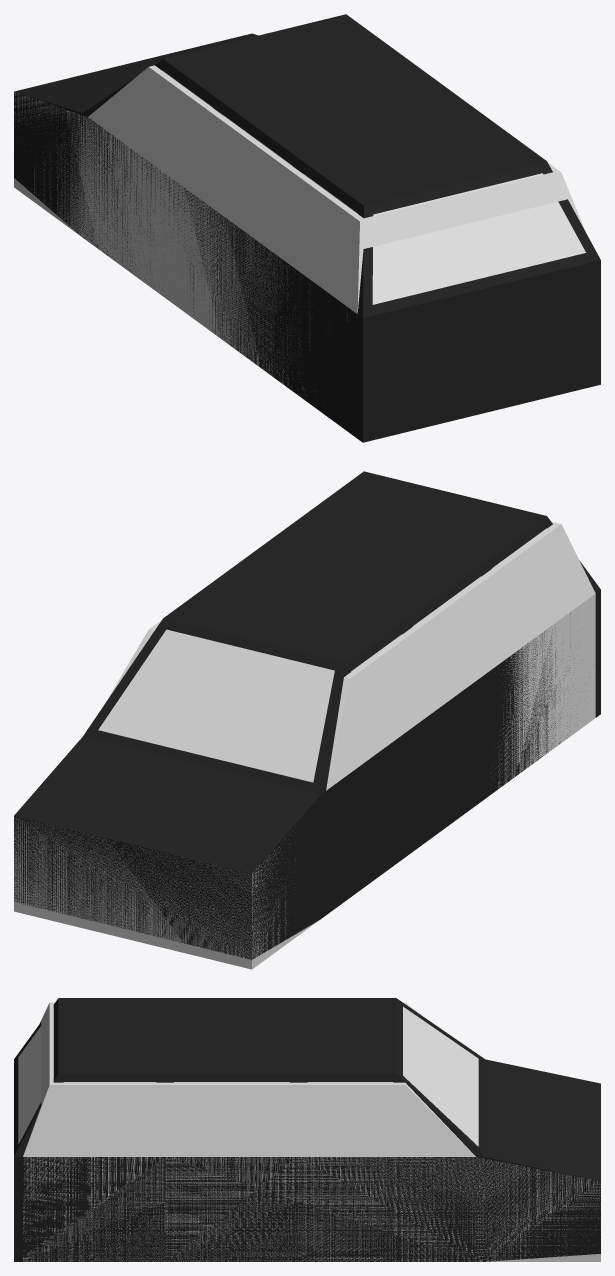
Rendered from minivan.glb.
3 renders of one model, top to bottom at view 1: azimuth 30°, elevation 25°; view 2: azimuth 150°, elevation 25°; view 3: azimuth 270°, elevation 25°, orthographic. The views are drawn at different scales.
Visible parts, largest first — view 1: vehicles/minivan, COL_hull, window.06; view 2: vehicles/minivan, COL_hull, window.00; view 3: vehicles/minivan, COL_hull, window.00, window.06.
Boxes of the visible parts, x1=… form: vehicles/minivan: x1=14, y1=14, x2=600, y2=442; COL_hull: x1=14, y1=65, x2=585, y2=433; window.06: x1=372, y1=173, x2=585, y2=304; vehicles/minivan: x1=14, y1=471, x2=600, y2=959; COL_hull: x1=14, y1=521, x2=595, y2=969; window.00: x1=98, y1=629, x2=334, y2=782; vehicles/minivan: x1=14, y1=998, x2=600, y2=1261; COL_hull: x1=23, y1=1002, x2=600, y2=1261; window.00: x1=403, y1=1006, x2=478, y2=1146; window.06: x1=18, y1=1008, x2=53, y2=1144.
Bounding box in the file's own units: 1.62 × 1.38 × 4.12.
2 materials, 2 textured.
